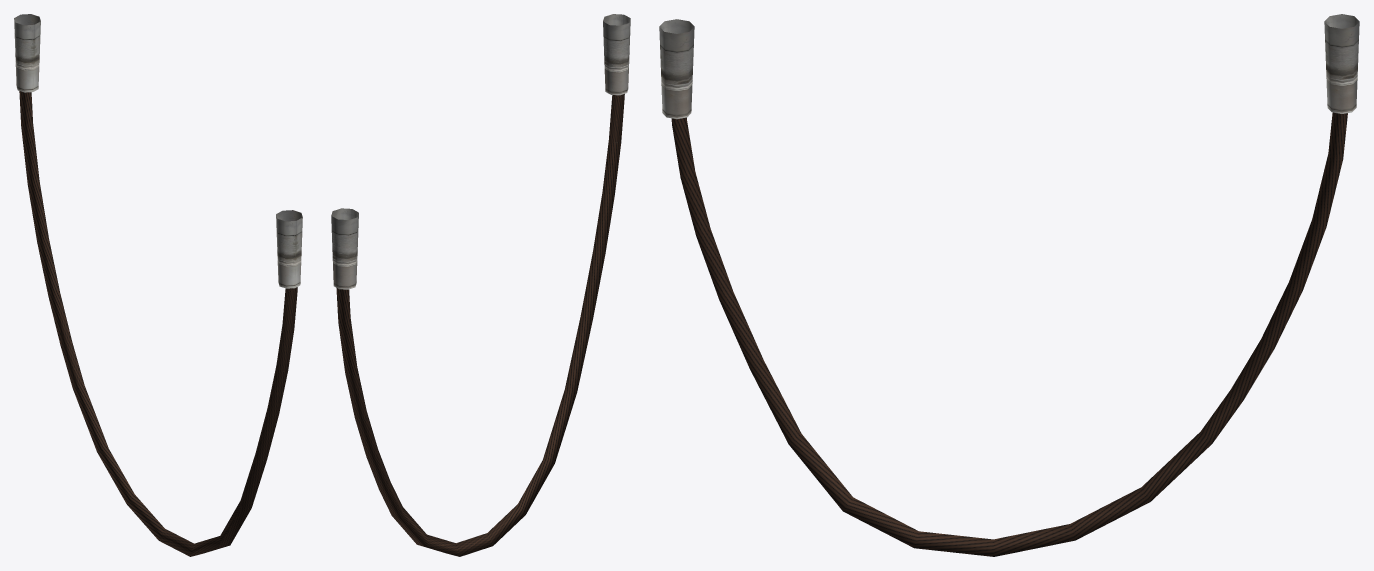
Rendered from EQP_CABLES_001.FBX.
The picture shows the model from 3 angles, left to right: view 1: azimuth 30°, elevation 25°; view 2: azimuth 150°, elevation 25°; view 3: azimuth 270°, elevation 25°; orthographic projection. The views are drawn at different scales.
Parts seen in each view (by area): view 1: CABLES_001; view 2: CABLES_001; view 3: CABLES_001.
Boxes of the visible parts, x1,y1,x2,y2 form: CABLES_001: [14, 14, 302, 556]; CABLES_001: [331, 14, 630, 556]; CABLES_001: [659, 14, 1359, 556].
Bounding box in the file's own units: 7.95 × 131 × 156.
1 material, 1 textured.
